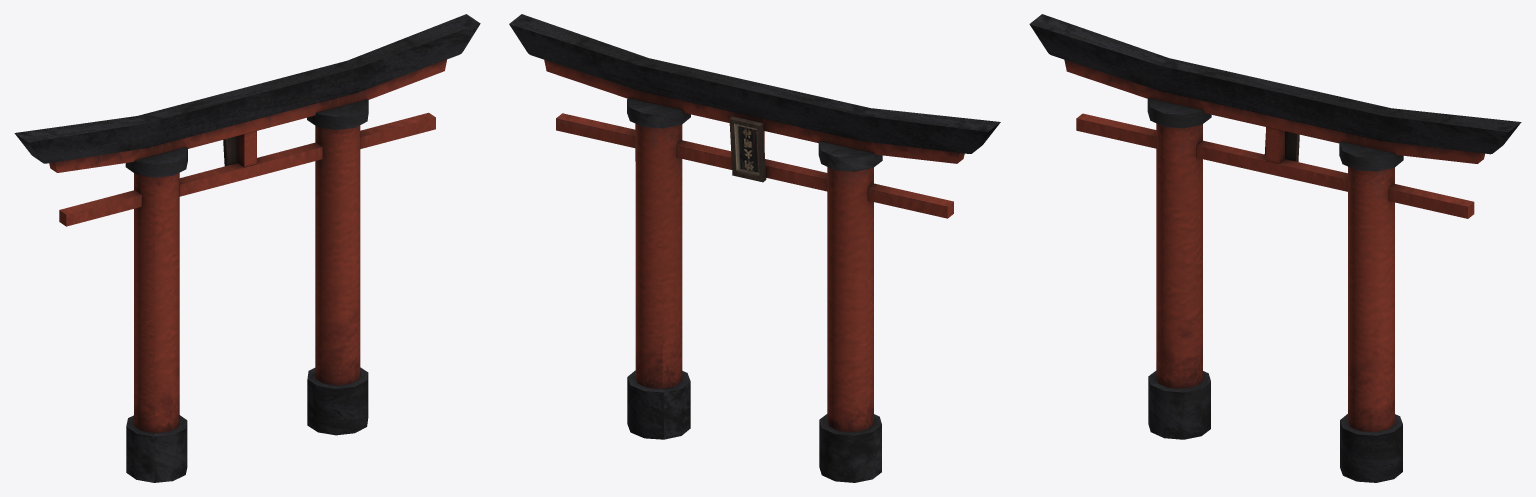
The model's file is NNJ0610003.fbx.
3 views of the same model, side by side, from view 1: azimuth 30°, elevation 25°; view 2: azimuth 150°, elevation 25°; view 3: azimuth 330°, elevation 25° (orthographic).
Visible parts, largest first — view 1: smNNJ0610003; view 2: smNNJ0610003; view 3: smNNJ0610003.
Part boxes in pixels (x1,y1,x2,y2): smNNJ0610003: (14,14,480,482); smNNJ0610003: (509,14,1000,482); smNNJ0610003: (1029,14,1521,482).
Bounding box in the file's own units: 630 × 479 × 83.84.
Materials: 1 (1 with a texture image).
